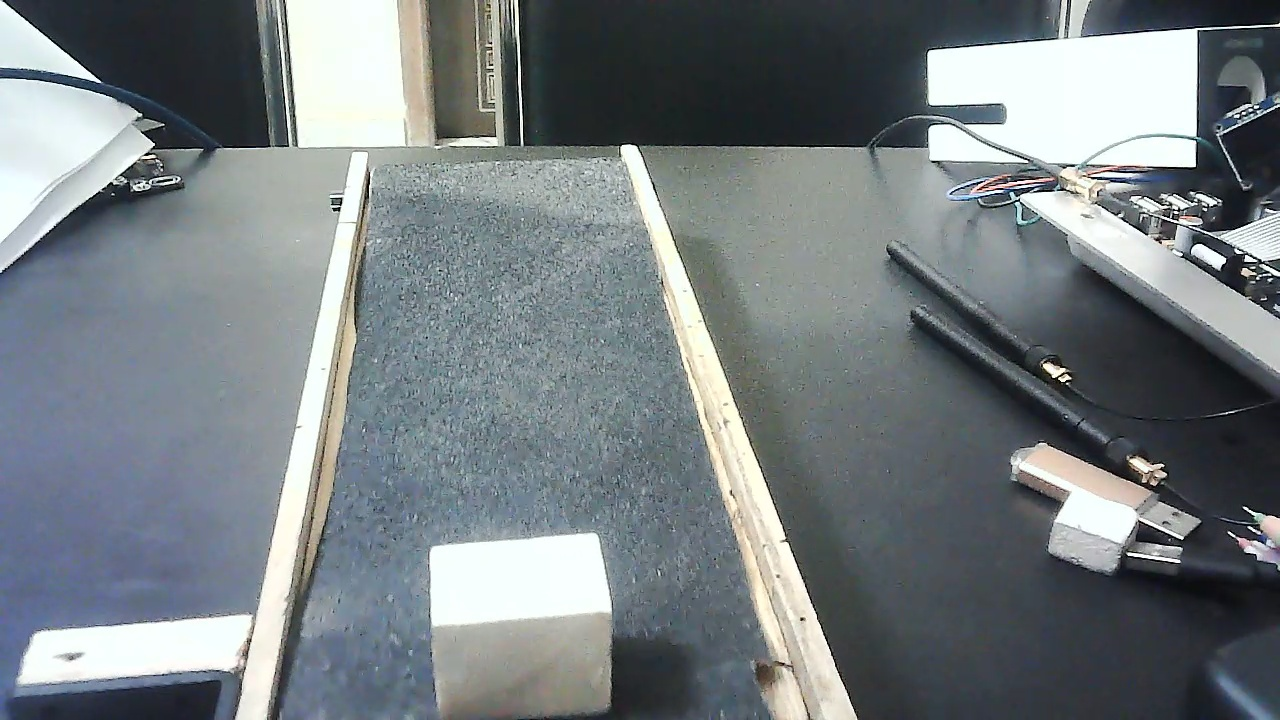Medium: (432, 531, 615, 714)
